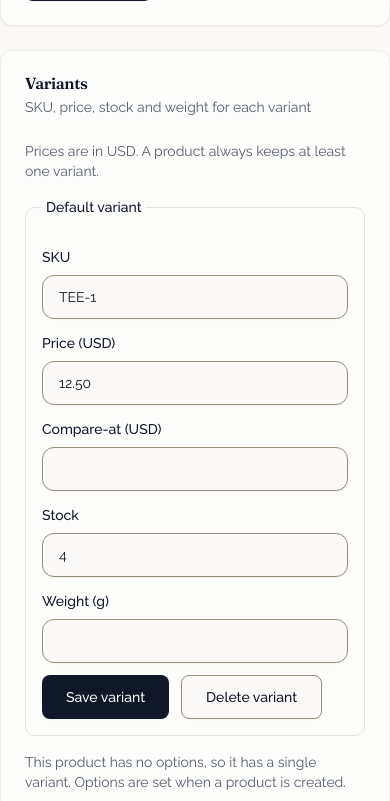
Test: ProductEditor › blocks an invalid variant edit before the server
(page scrolled)
Replace the text in the field labelled "Price (USD)" with "abc" at (195, 383), box [42,361,348,405]
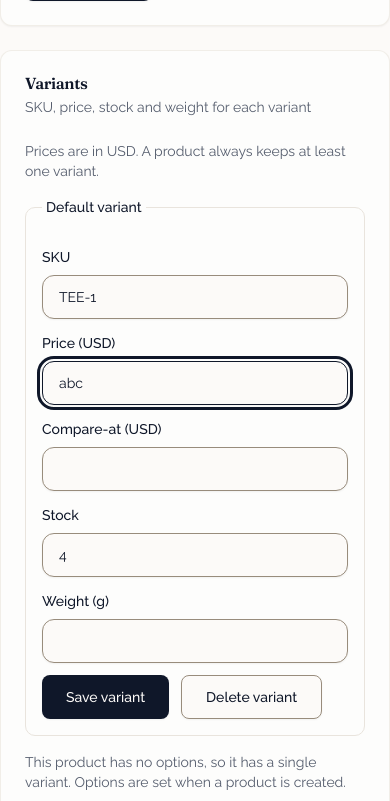
Click the button "Save variant" at (106, 697), box [42,675,169,719]
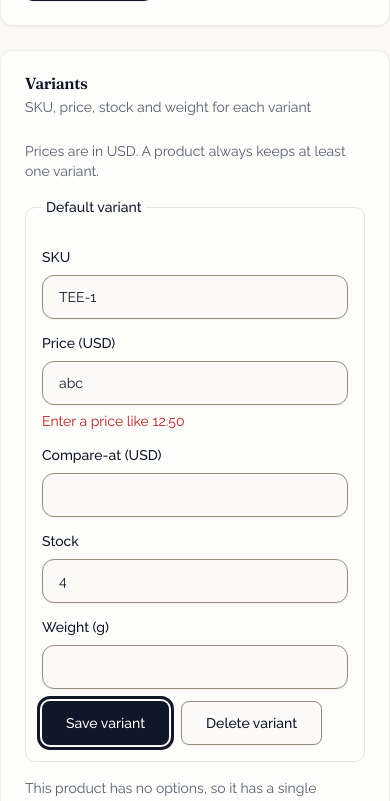
Expected: the text "Enter a price like 12.50" is shown, [42,413,184,429]
